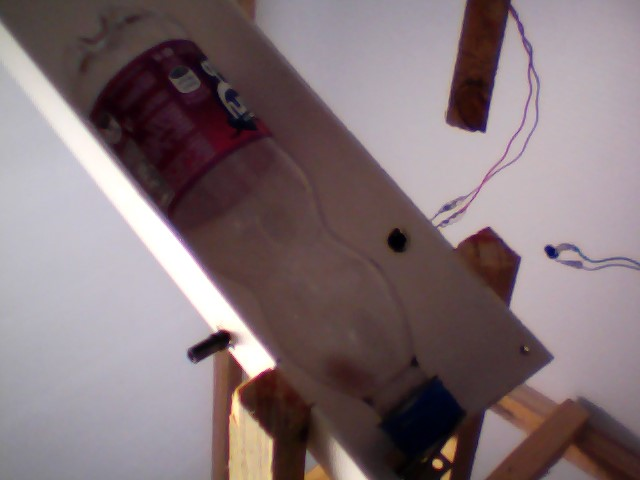plastico: (55, 1, 471, 462)
